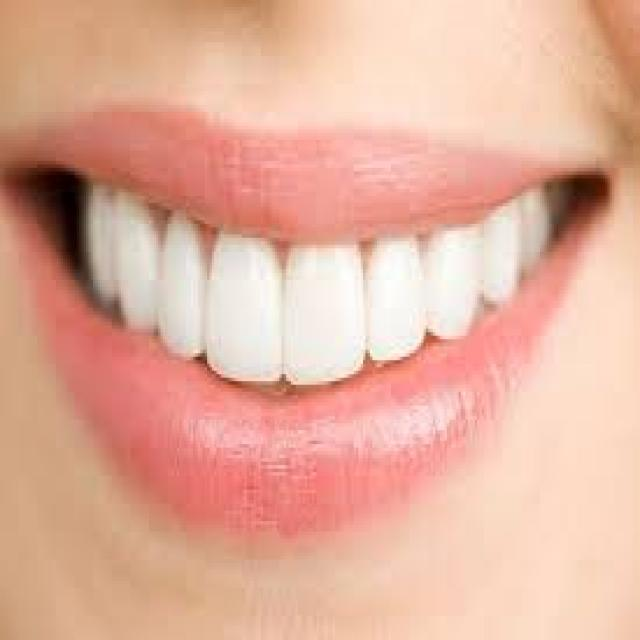tooth: (209, 234, 284, 378), (289, 245, 363, 374), (163, 210, 207, 350), (116, 189, 160, 325), (370, 238, 421, 346), (88, 182, 119, 294), (431, 231, 470, 308), (482, 213, 516, 294), (521, 189, 547, 255)
